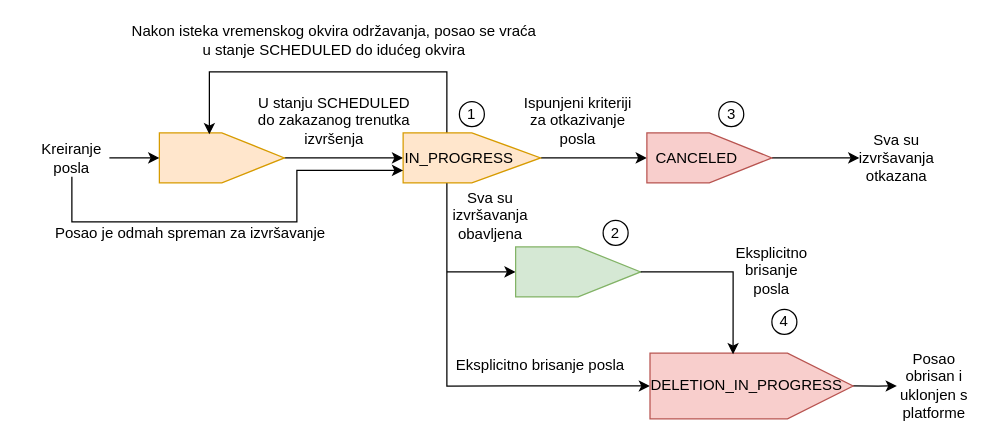
The diagram is 993 pixels wide and 444 high, and some of its shapes have lost their labels. Each missing label, with the box of its shape:
COMPLETED: (514, 246, 641, 297)
SCHEDULED: (158, 132, 284, 183)
